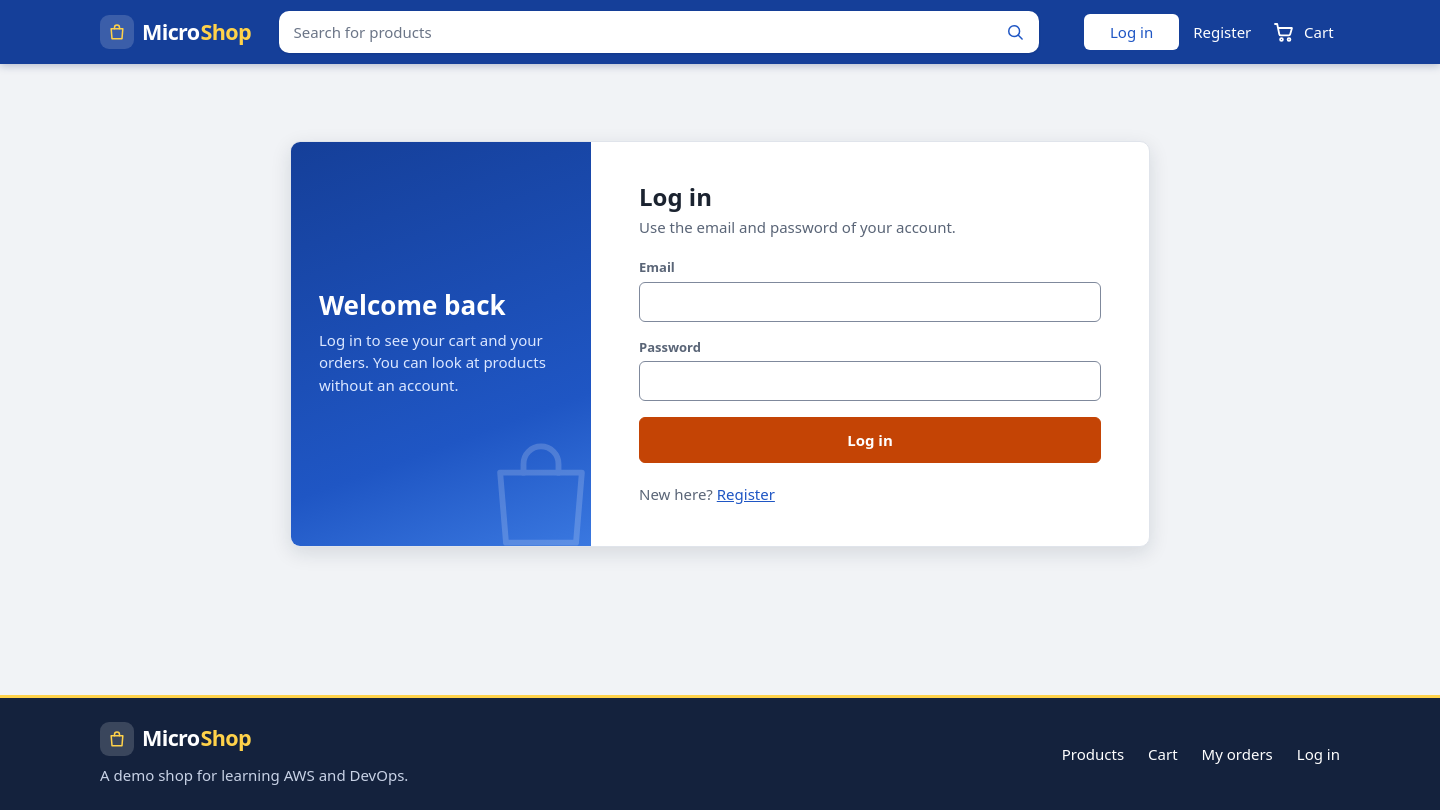
Scenario: the admin area: who may come in › brings the visitor back to the page they asked for after logging in as an administrator
This screenshot has width=1440, height=810.
Expected: the heading "Log in" is shown, [639,180,712,213]
Type "admin@example.com" into the field labelled "Email" at (870, 302), box [639,282,1101,322]
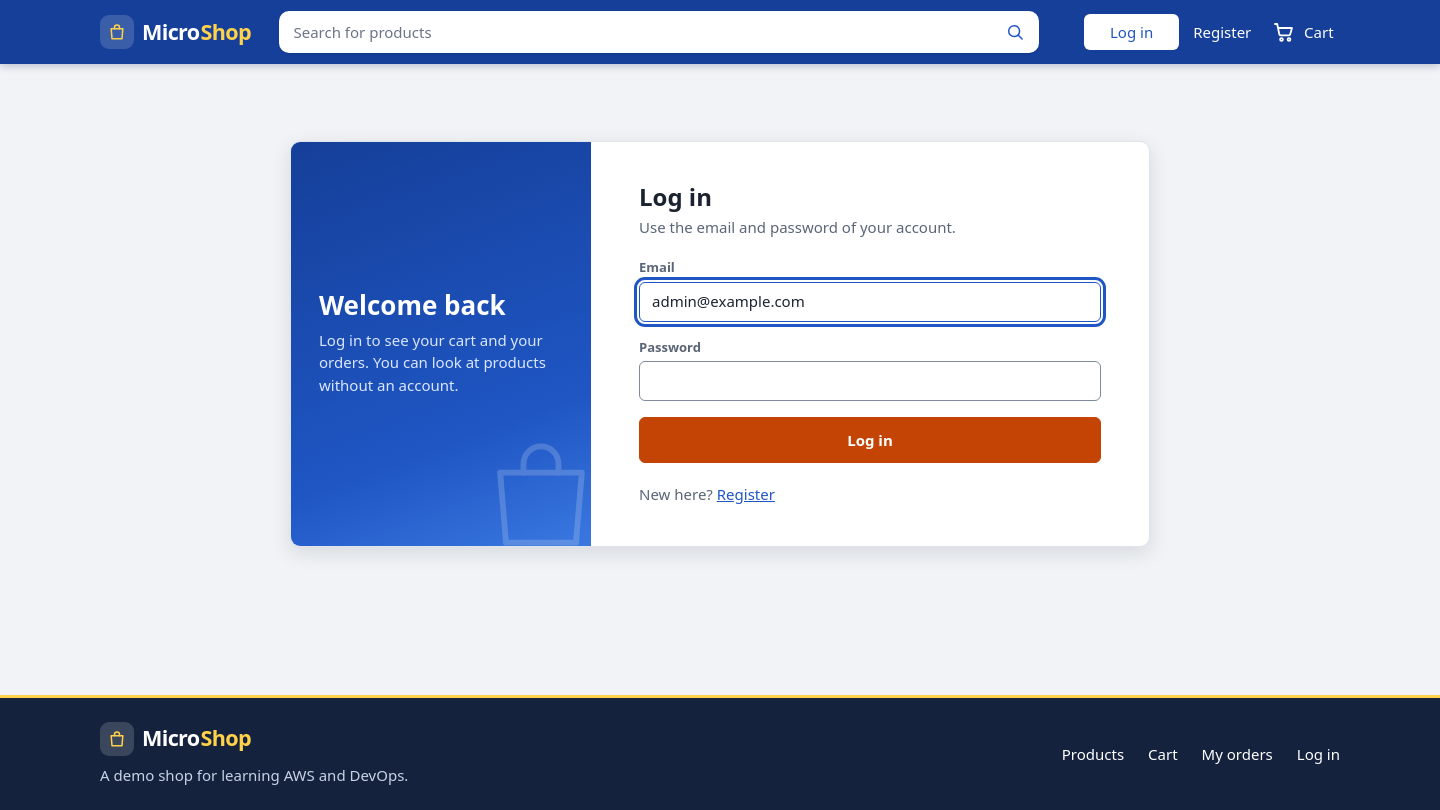
Type "admin12345" into the password field labelled "Password" at (870, 381), box [639,361,1101,401]
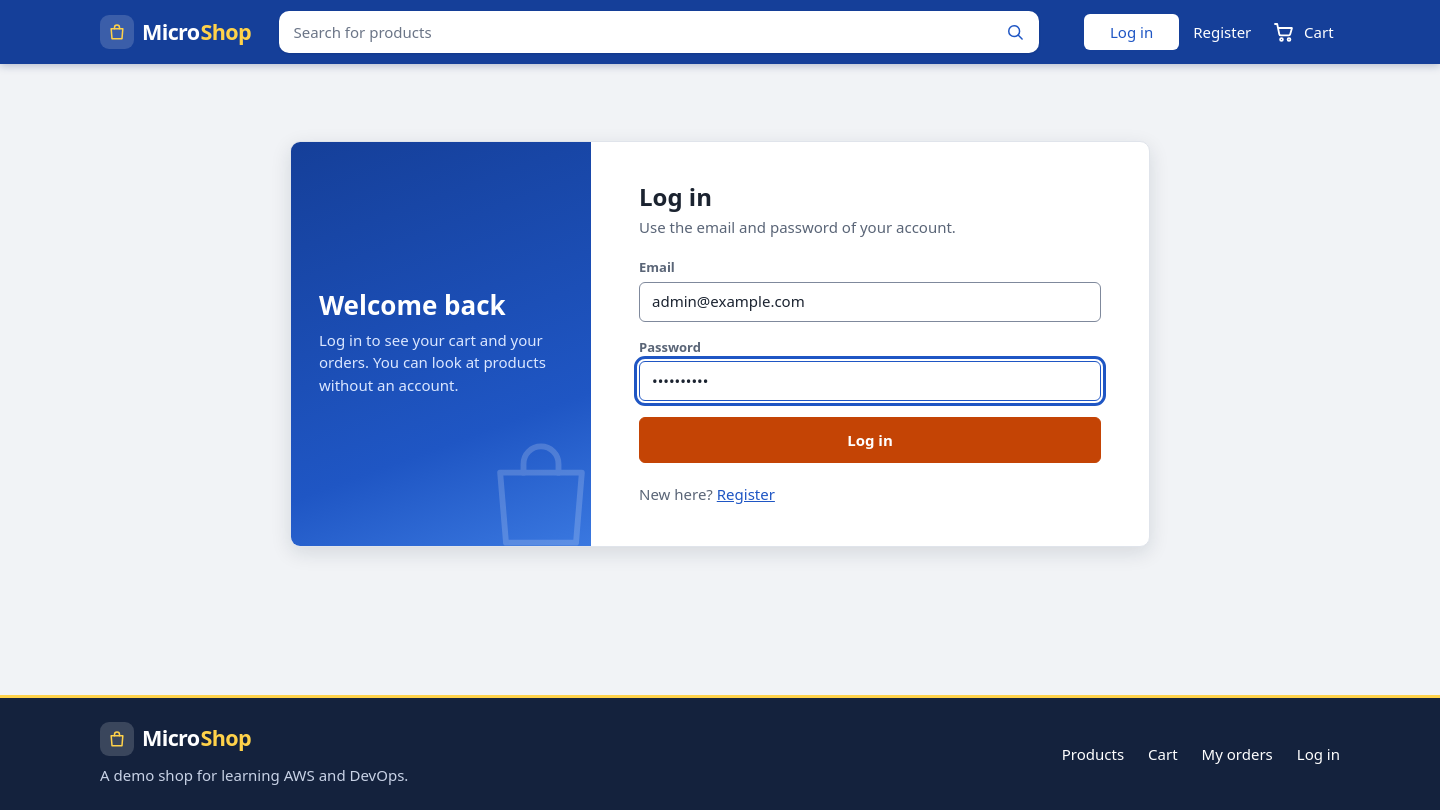
Click the button "Log in" at (870, 440), box [639,417,1101,463]
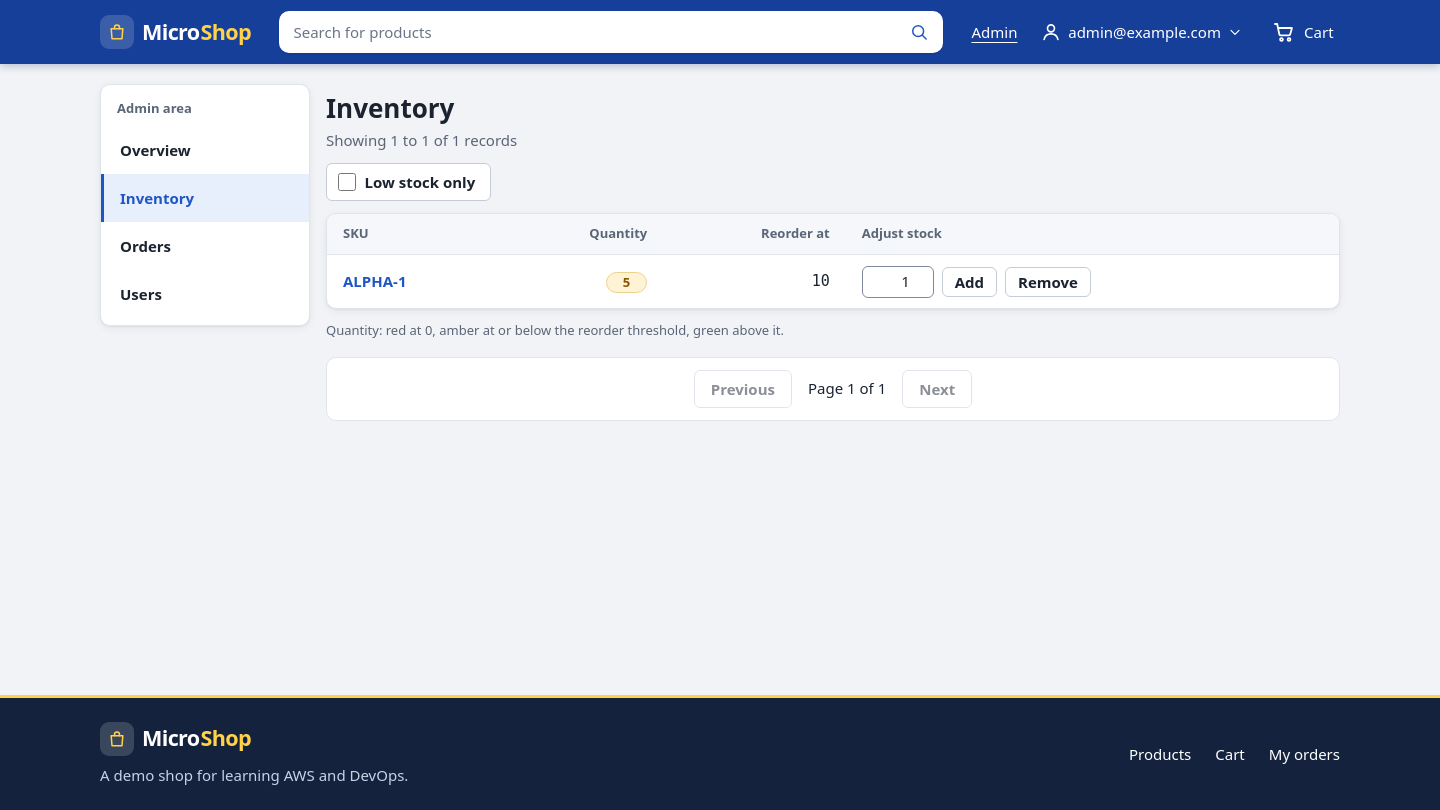
Now the heading "Inventory" is shown, box [326,90,454,126]
Now the navigation bar "Admin" is shown, box [100,84,310,326]
